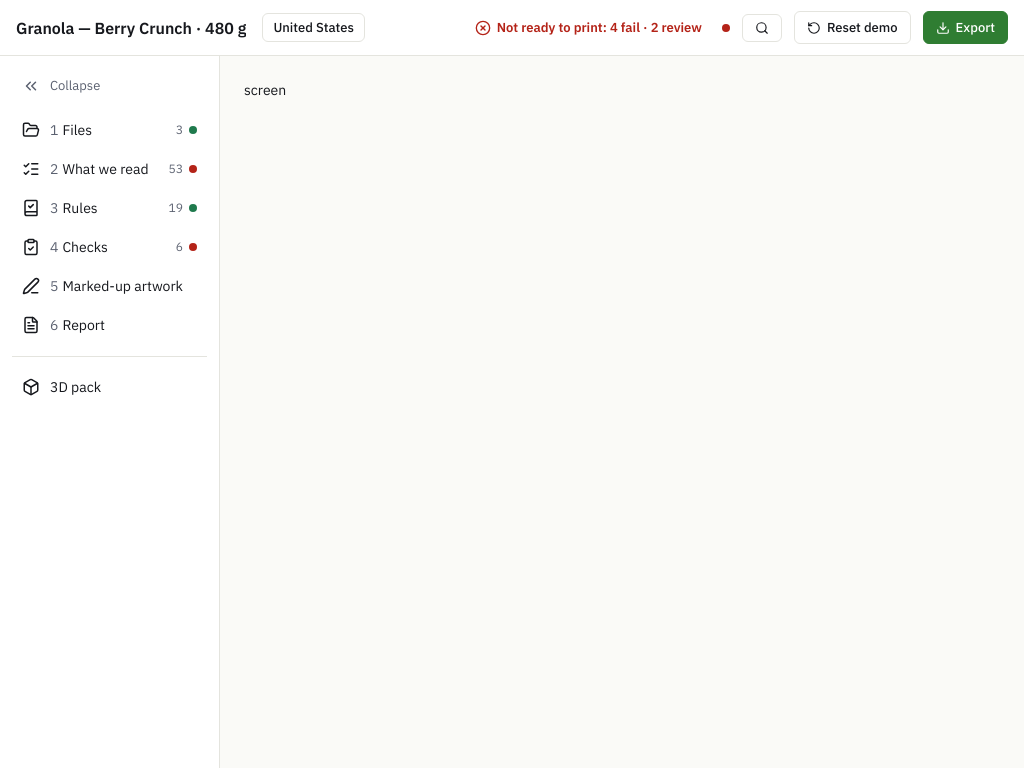
Test: Ask about this panel › is closed by default, opens from the top bar and closes with Escape
The width and height of the screenshot is (1024, 768).
expect the element "Ask about this" is not shown: met
Click the button named "Ask about this" at (762, 28), box [742,14,782,42]
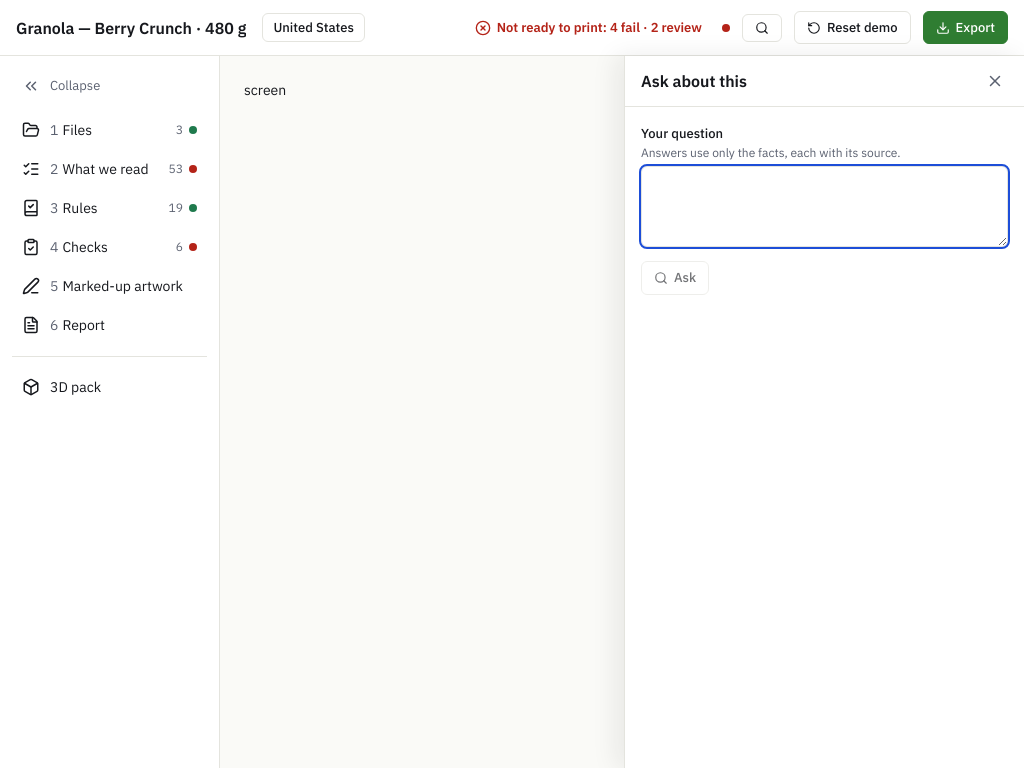
Press Escape
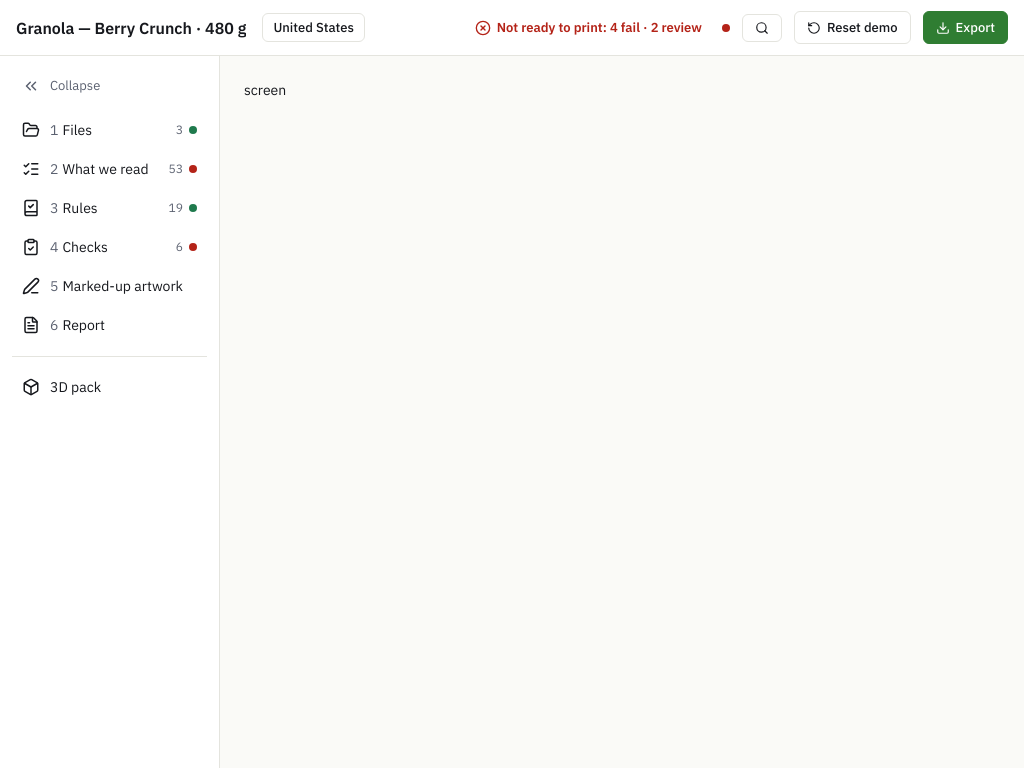
expect the heading "Ask about this" is gone: met
